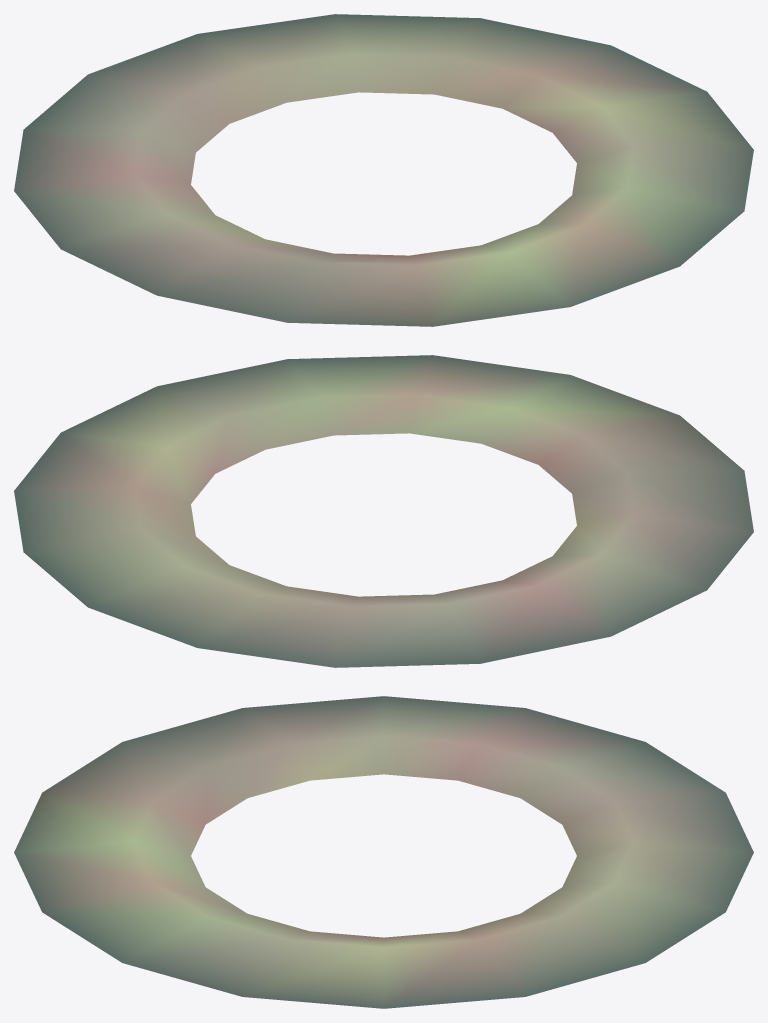
The picture shows the model from 3 angles, top to bottom: view 1: azimuth 30°, elevation 25°; view 2: azimuth 150°, elevation 25°; view 3: azimuth 270°, elevation 25°; orthographic projection.
Visible parts, largest first — view 1: starcloud175; view 2: starcloud175; view 3: starcloud175.
Boxes of the visible parts, x1,y1,x2,y2 form: starcloud175: (14,14,753,326); starcloud175: (14,355,753,667); starcloud175: (14,696,753,1008).
Size of the model in its own units: 0.5 by 0.0175 by 0.5.
